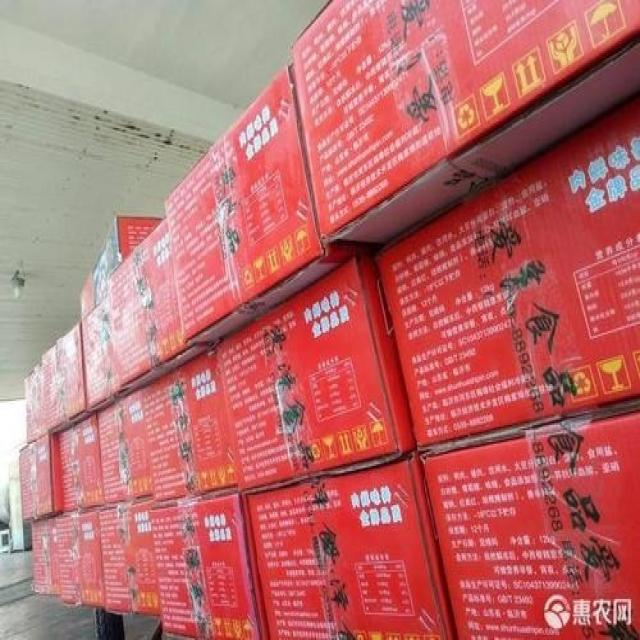box: (358, 94, 640, 449), (289, 2, 639, 246), (164, 58, 385, 345), (421, 406, 640, 640), (219, 256, 420, 492), (243, 445, 458, 638), (109, 218, 216, 389), (150, 486, 262, 638), (143, 348, 241, 502), (81, 212, 168, 319), (100, 498, 163, 613), (79, 295, 140, 411), (101, 387, 156, 503), (49, 503, 105, 613), (44, 324, 92, 435), (60, 411, 104, 512), (20, 432, 63, 524), (24, 357, 44, 444), (32, 521, 52, 597)
